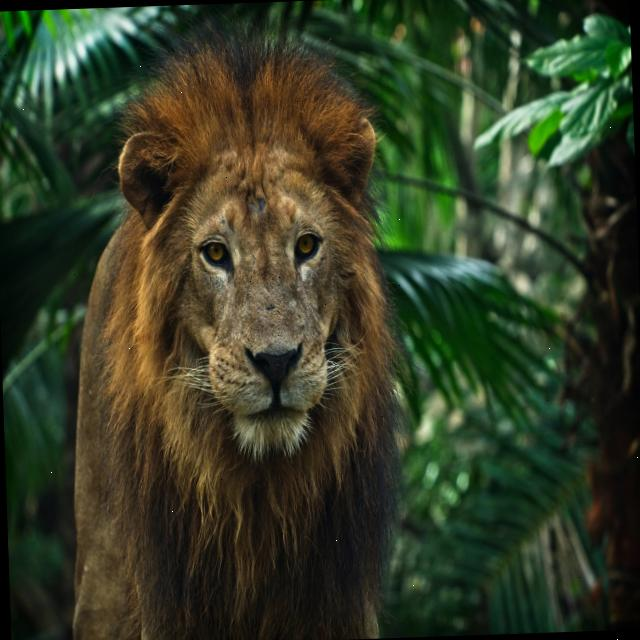Lion: (51, 21, 422, 640)
